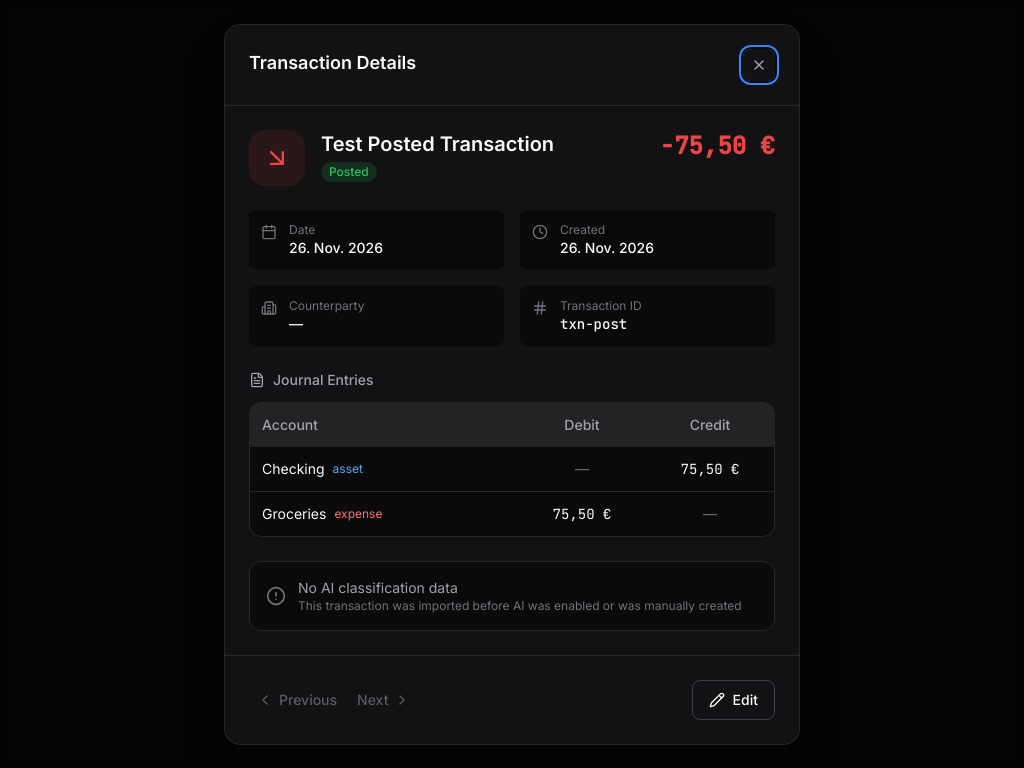
Scenario: TransactionDetailModal › Danger Zone › posted transaction deletion › shows amount confirmation input for posted transactions
Click the button "Edit".
click(733, 700)  # box [692,680,775,720]
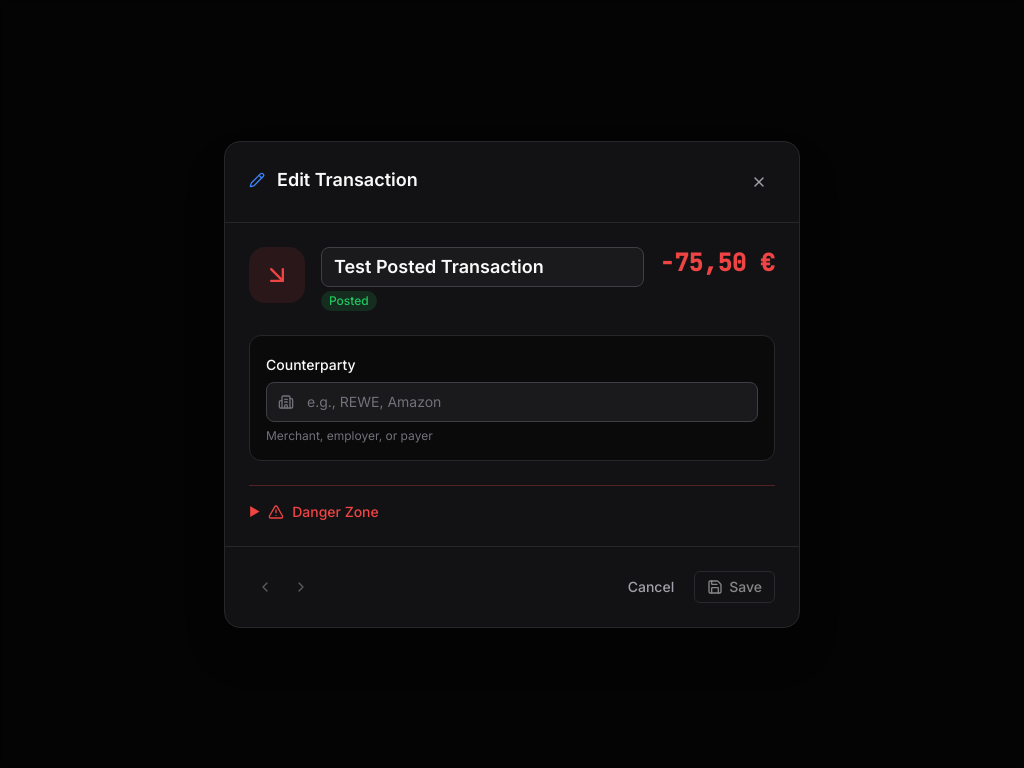
Now the heading "▶ Danger Zone" is shown
Click the heading "▶ Danger Zone".
click(314, 511)  # box [249,502,379,520]
(page scrolled)
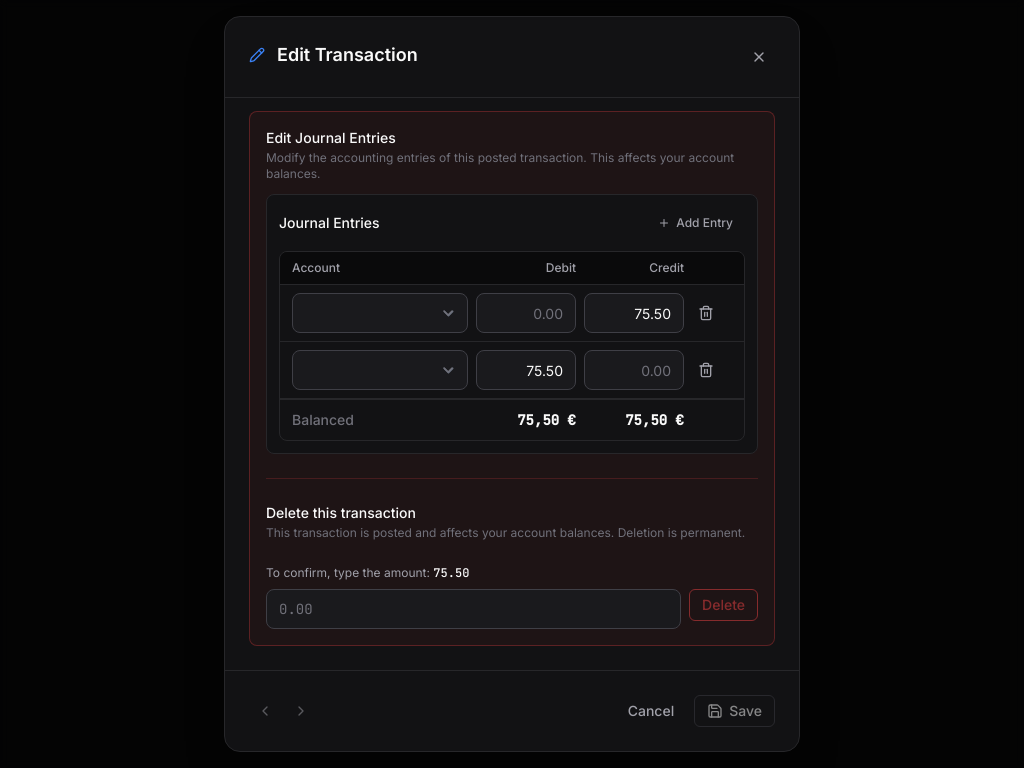
Now the text "To confirm, type the amount: 75.50" is shown, box [266,565,469,581]
